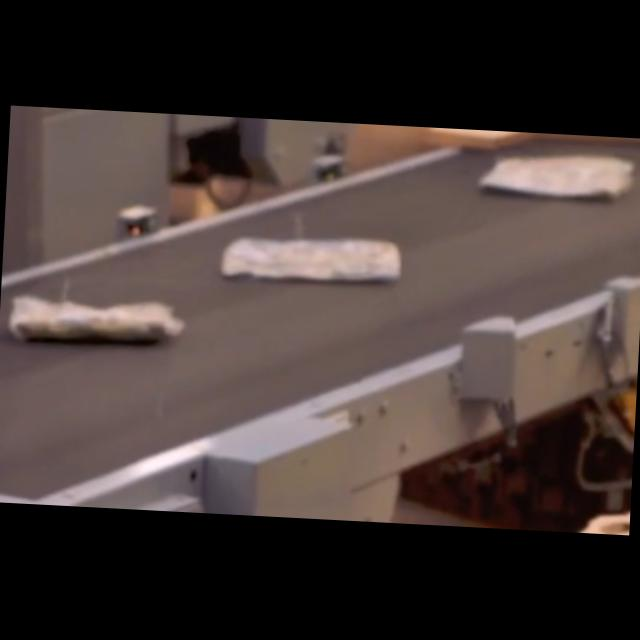mailer: (221, 232, 401, 288), (11, 292, 176, 351), (476, 152, 628, 204)
